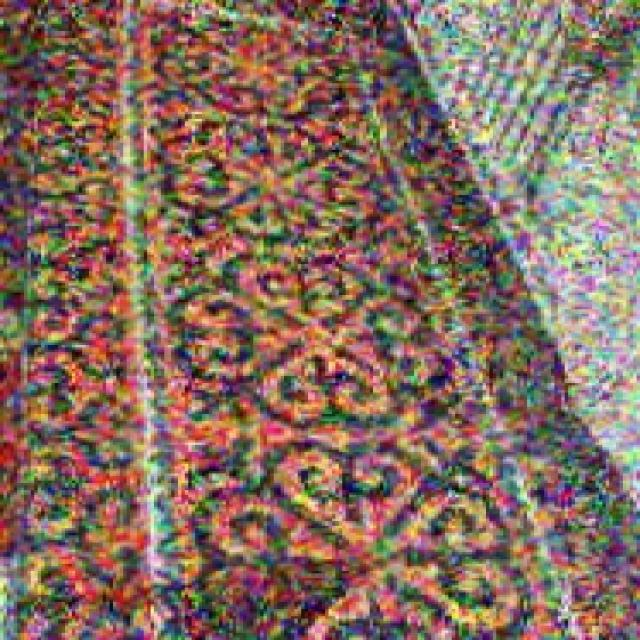Unity: (150, 433, 559, 638), (134, 255, 474, 444), (144, 110, 418, 243)
